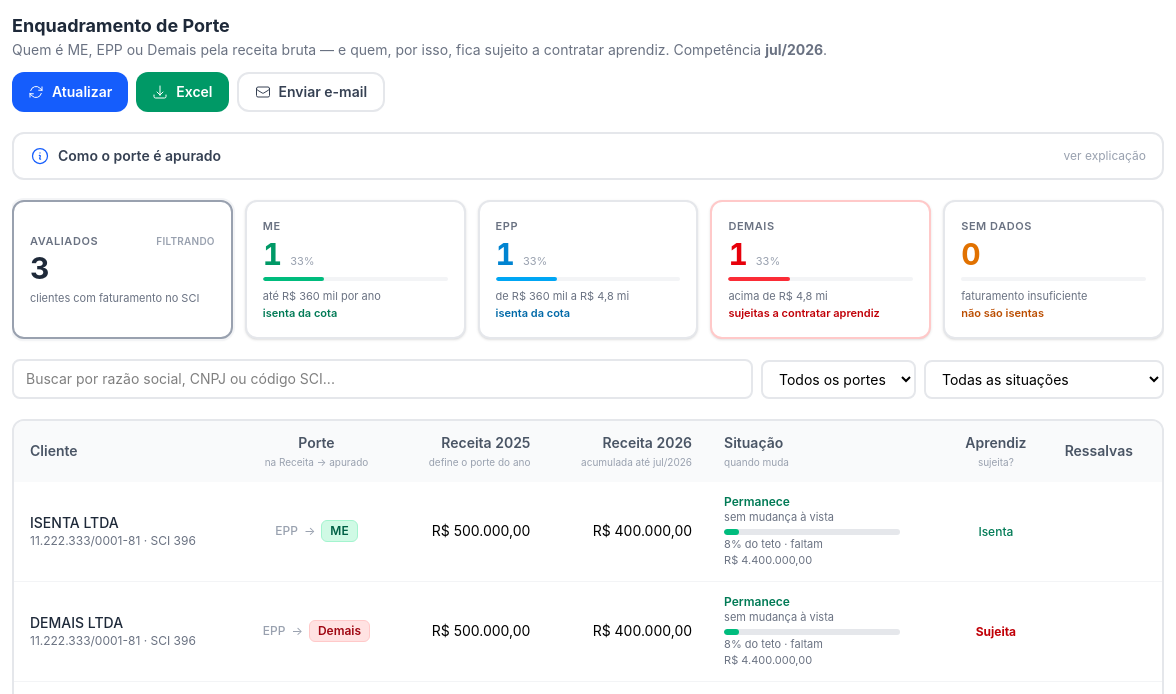
CotaAprendizagemTab › sócio PJ fora de Demais entra no filtro de sujeitas à cota
Expected: the text "ISENTA LTDA" is shown, [30,514,119,531]
Select "Sujeitas a contratar aprendiz" in the 2nd dropdown showing "Todas as situações" at coordinates (1044, 379), box [924,360,1164,399]
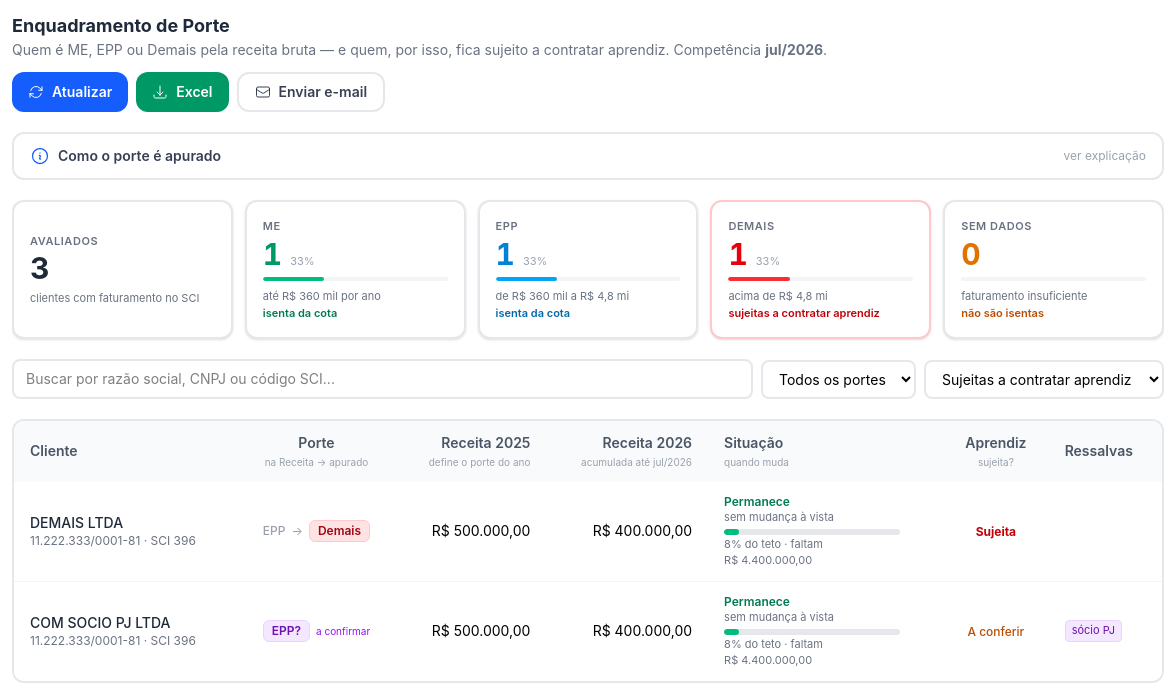
Expected: the text "DEMAIS LTDA" is shown, [30,514,123,531]
Expected: the text "ISENTA LTDA" is gone
